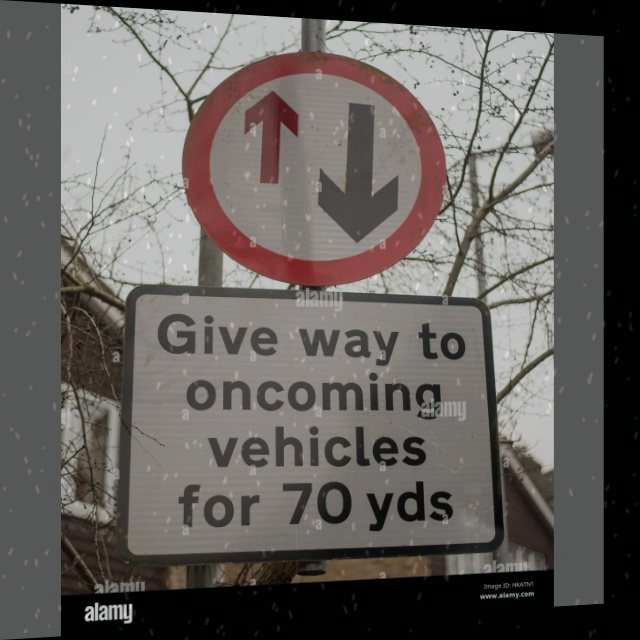Priority_for_Oncoming_Traffic: (183, 43, 448, 284)
